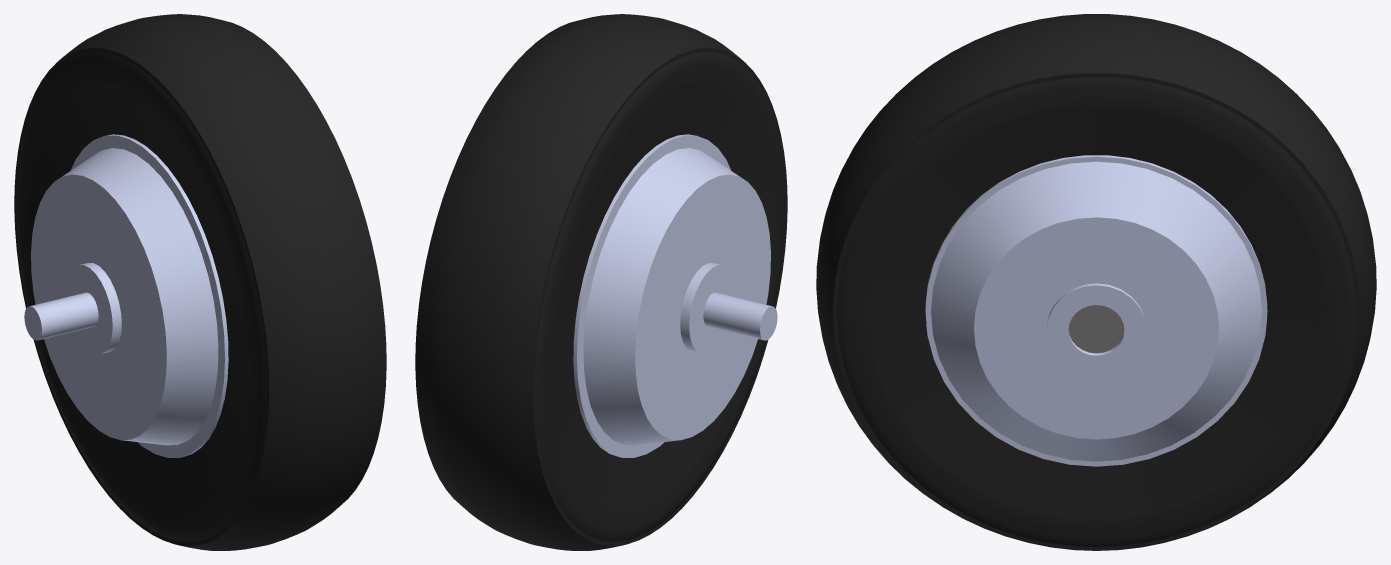
The model's file is front_wheel.dae.
The picture shows the model from 3 angles, left to right: view 1: azimuth 30°, elevation 25°; view 2: azimuth 150°, elevation 25°; view 3: azimuth 270°, elevation 25°; orthographic projection. The views are drawn at different scales.
Visible parts, largest first — view 1: _3DGeom_25, _3DGeom_27; view 2: _3DGeom_25, _3DGeom_27; view 3: _3DGeom_25, _3DGeom_27, _3DGeom_26.
Part boxes in pixels (x1,y1,x2,y2): _3DGeom_25: [14, 14, 386, 550]; _3DGeom_27: [24, 134, 228, 457]; _3DGeom_25: [415, 14, 787, 550]; _3DGeom_27: [573, 134, 777, 457]; _3DGeom_25: [816, 14, 1376, 550]; _3DGeom_27: [925, 155, 1267, 466]; _3DGeom_26: [1068, 305, 1124, 353].
Size of the model in its own units: 0.1118 by 0.2 by 0.1999.
